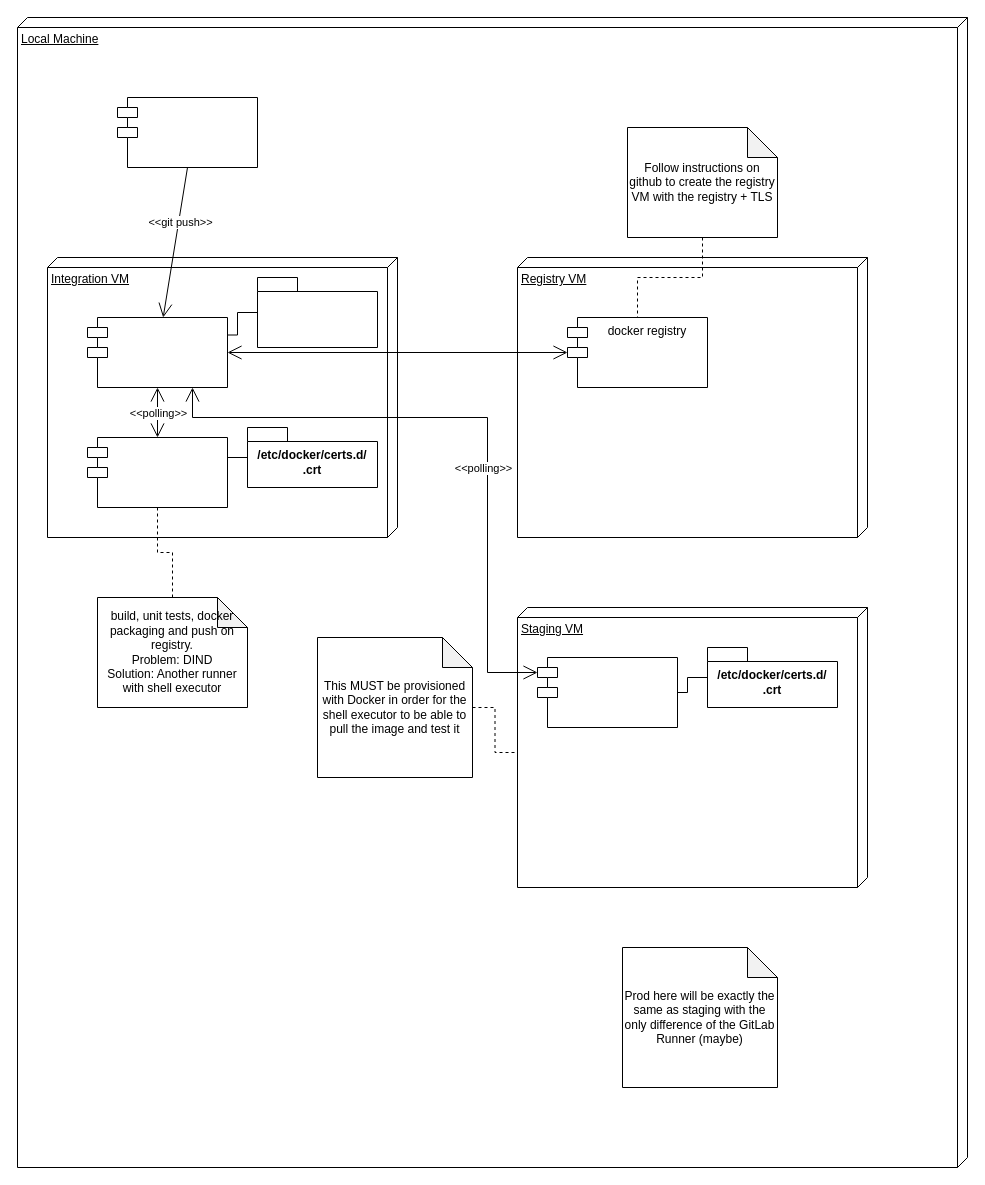
Image size: 985x1185. Some labels were removed from this diagram. Each missing label, with the centre of its shape:
/etc/gitlab/ssl/ .crt .key: pixel 317 312
git: pixel 187 132
GitLab runner (Docker executor) - build - packaging: pixel 157 472
GitLab runner (shell executor) - pulls image - tests it: pixel 607 692
GitLab Server: pixel 157 352
